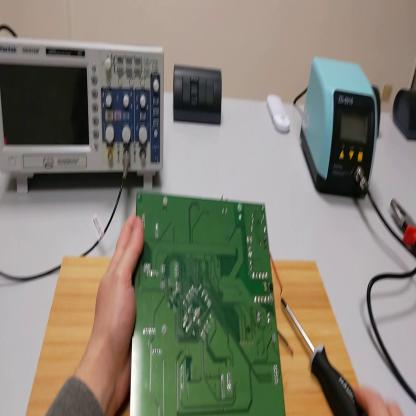hand: (92, 216, 147, 411), (354, 384, 406, 415)
low voltage board: (131, 186, 286, 415)
oscilloscope: (2, 38, 167, 197)
pliers: (391, 198, 416, 254)
screwdriver-: (283, 294, 368, 415)
socket: (393, 86, 415, 141), (372, 88, 384, 132)
welder station: (301, 55, 379, 203)
working area: (27, 253, 364, 414)
